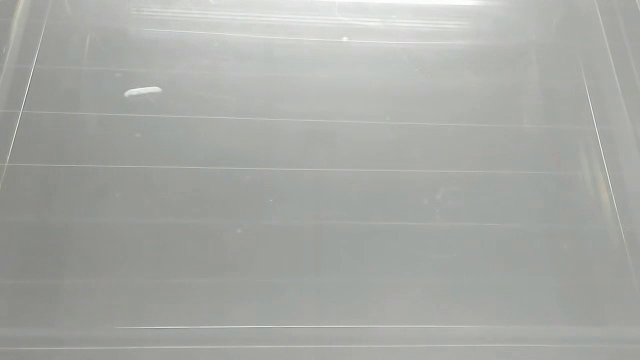alpha: (122, 84, 166, 101)
